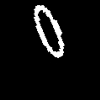chain: (34, 5, 63, 57)
